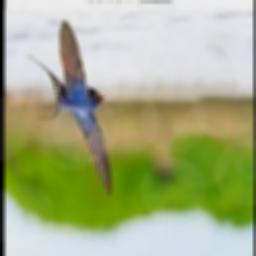Swallow: (27, 20, 111, 199)
